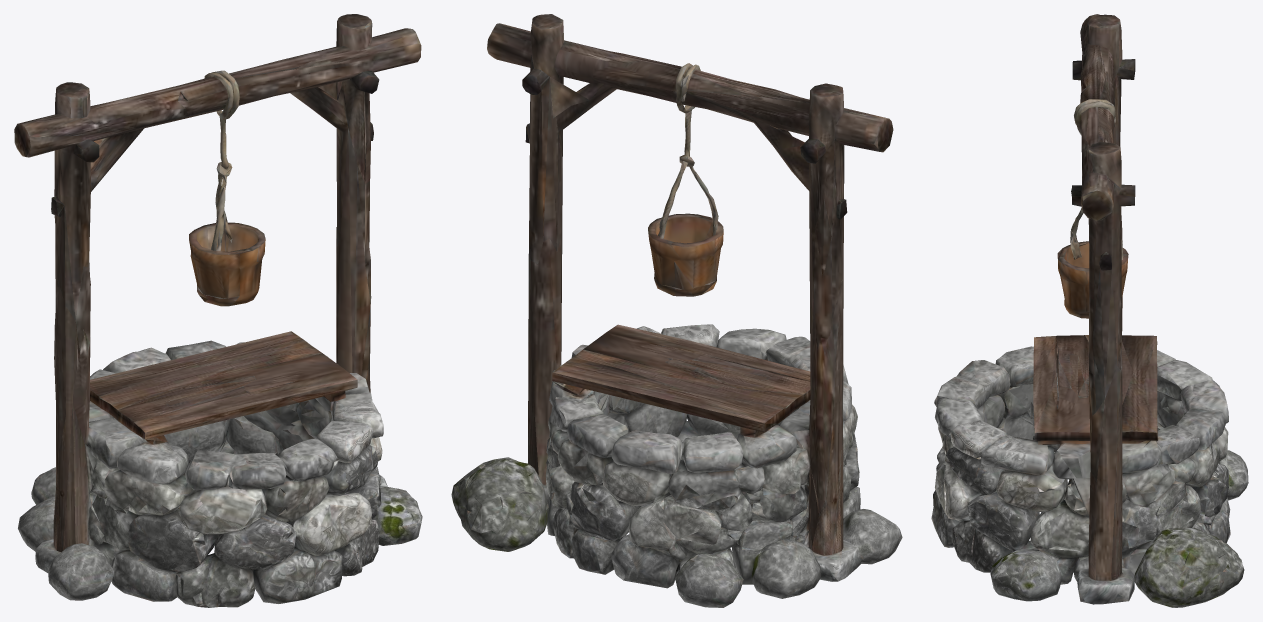
File: well.glb
3 renders of one model, left to right at view 1: azimuth 30°, elevation 25°; view 2: azimuth 150°, elevation 25°; view 3: azimuth 270°, elevation 25°, orthographic. The views are drawn at different scales.
Parts seen in each view (by area): view 1: Mesh_0.001; view 2: Mesh_0.001; view 3: Mesh_0.001.
Boxes of the visible parts, x1,y1,x2,y2 form: Mesh_0.001: (14, 14, 422, 607); Mesh_0.001: (451, 14, 902, 607); Mesh_0.001: (931, 14, 1248, 607).
Size of the model in its own units: 1.71 by 2 by 1.29.
Materials: 1 (1 with a texture image).
